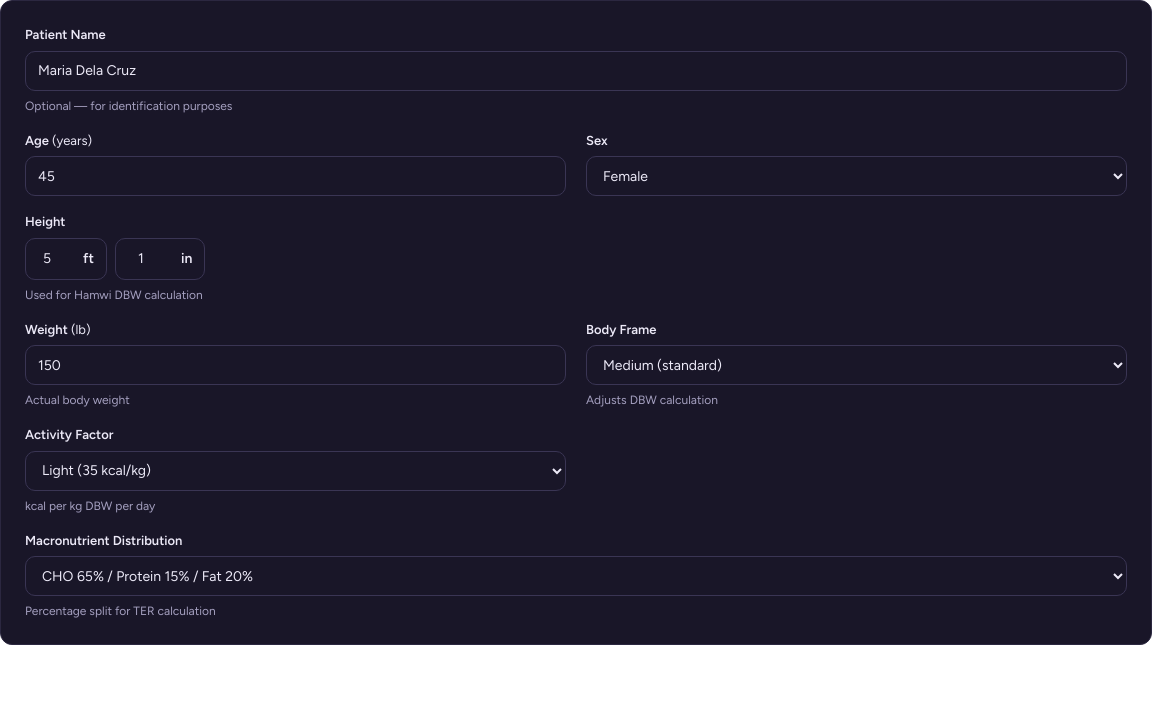
Test: PatientForm validation › blur validation - height › shows error for total height below 4ft
Replace the text in the number field named "Height in feet" with "3": (54, 258) [26,238,83,278]
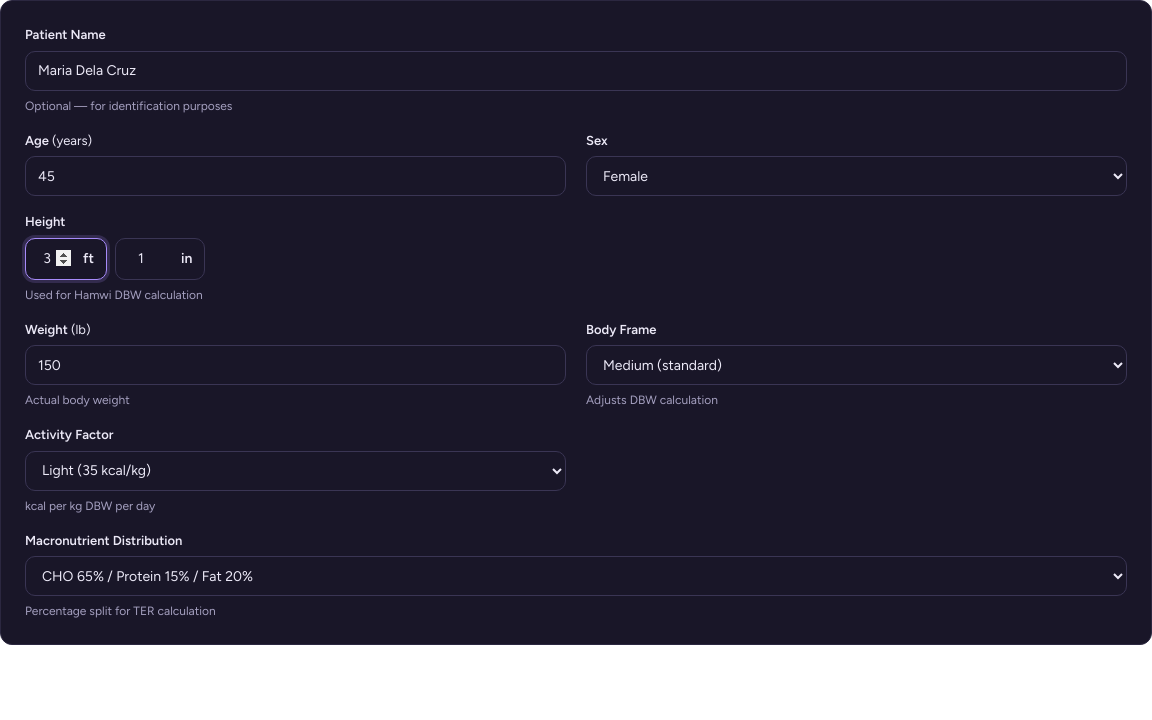
Press Tab
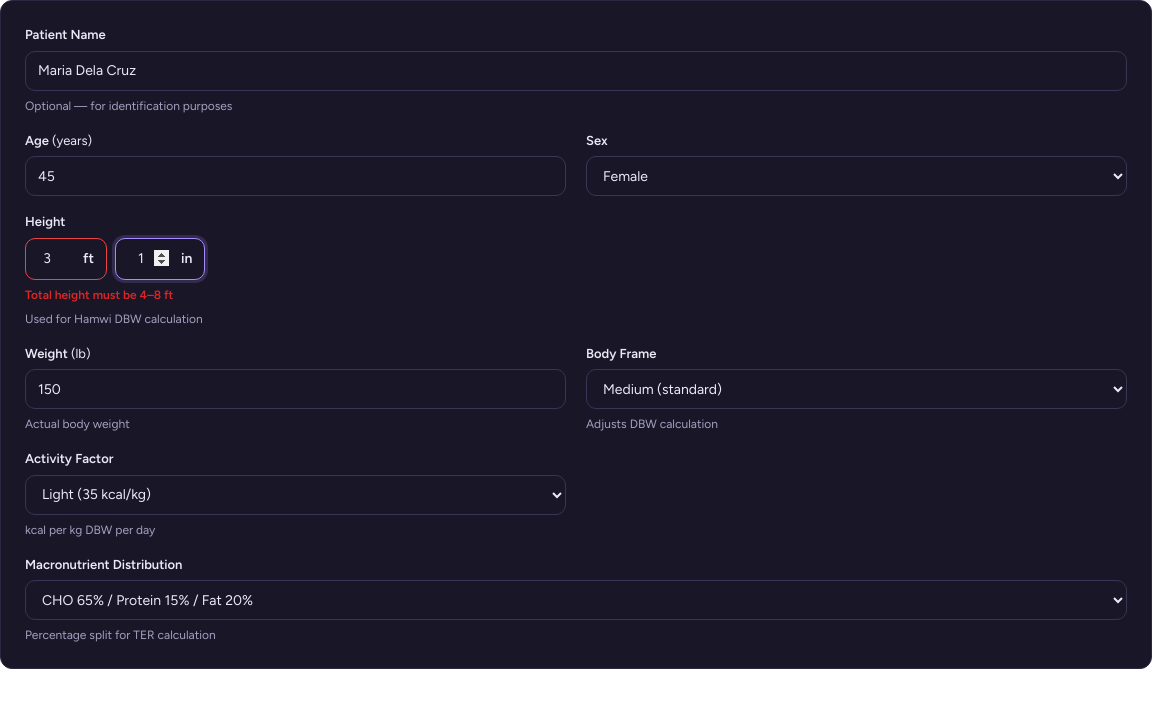
Now the text "Total height must be 4–8 ft" is shown, box [25,288,173,302]
